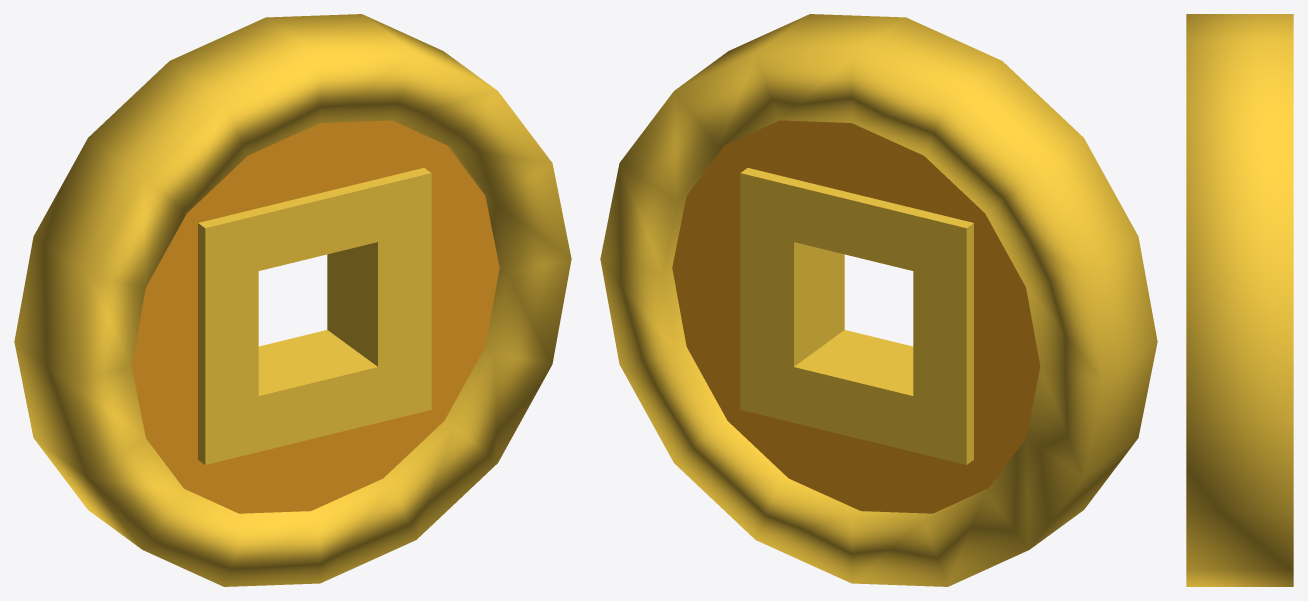
File: Coin_Yen.glb
The picture shows the model from 3 angles, left to right: view 1: azimuth 30°, elevation 25°; view 2: azimuth 150°, elevation 25°; view 3: azimuth 270°, elevation 25°; orthographic projection.
Parts seen in each view (by area): view 1: Rim_FFD23F, Face_F5A623; view 2: Rim_FFD23F, Face_F5A623; view 3: Rim_FFD23F.
Part boxes in pixels (bbox=[...]): Rim_FFD23F: bbox=[14, 14, 571, 586]; Face_F5A623: bbox=[131, 120, 499, 513]; Rim_FFD23F: bbox=[600, 14, 1157, 586]; Face_F5A623: bbox=[672, 120, 1040, 513]; Rim_FFD23F: bbox=[1186, 14, 1293, 586].
Size of the model in its own units: 1.6 by 1.6 by 0.3.
